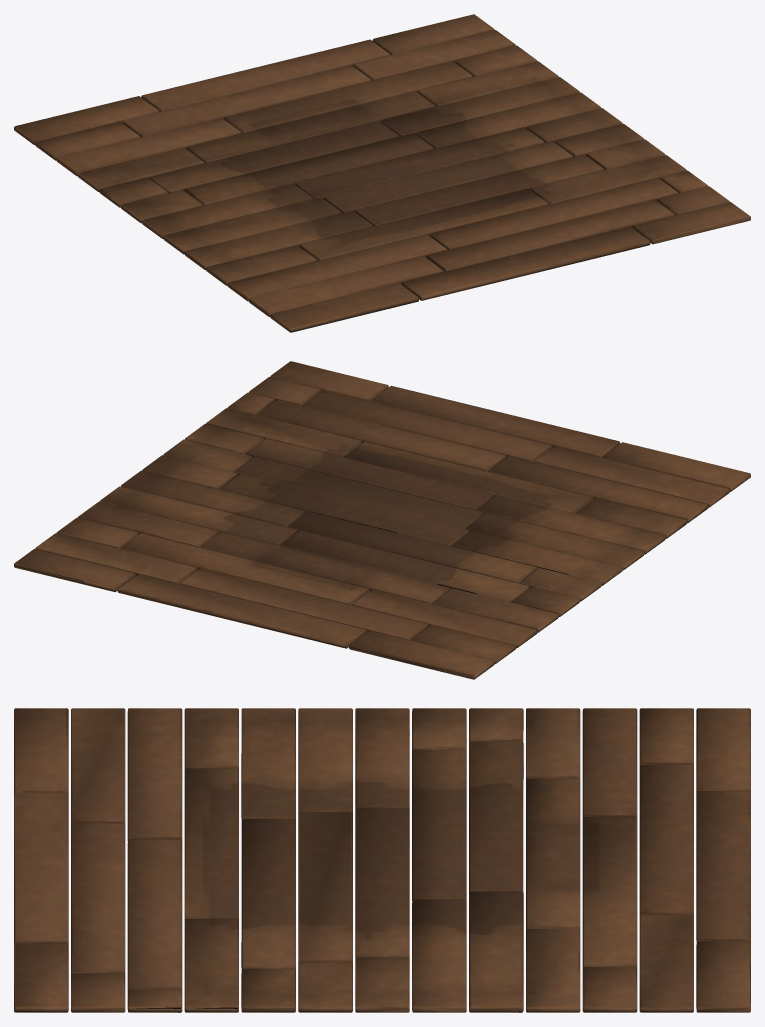
File: floor_planks_dark.glb
3 renders of one model, top to bottom at view 1: azimuth 30°, elevation 25°; view 2: azimuth 150°, elevation 25°; view 3: azimuth 270°, elevation 25°, orthographic. The views are drawn at different scales.
Parts seen in each view (by area): view 1: prop_floor_planks_dark_wood; view 2: prop_floor_planks_dark_wood; view 3: prop_floor_planks_dark_wood.
Boxes of the visible parts, left/top/right/bottom form: prop_floor_planks_dark_wood: left=14, top=14, right=750, bottom=332; prop_floor_planks_dark_wood: left=14, top=361, right=750, bottom=679; prop_floor_planks_dark_wood: left=14, top=708, right=750, bottom=1012.
Size of the model in its own units: 3.99 by 0.0389 by 4.15.
1 material, 1 textured.
